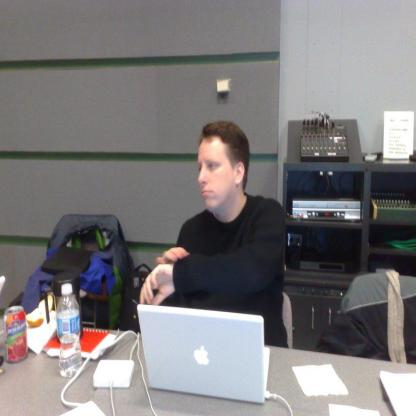board: (141, 305, 269, 407), (57, 283, 82, 377), (4, 305, 28, 363)
